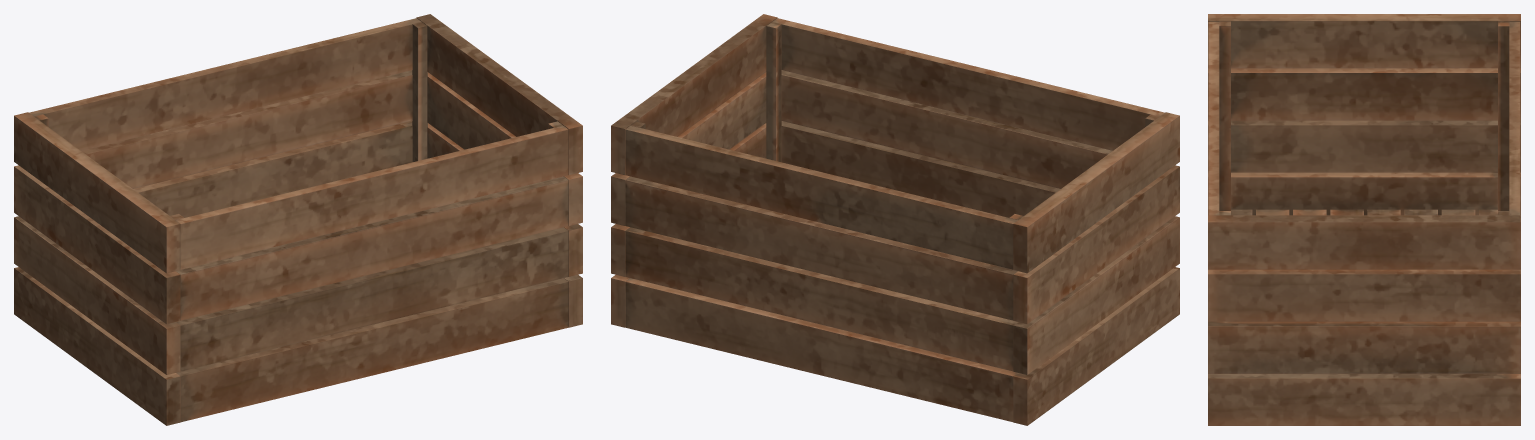
The model's file is Crate_01.fbx.
The picture shows the model from 3 angles, left to right: view 1: azimuth 30°, elevation 25°; view 2: azimuth 150°, elevation 25°; view 3: azimuth 270°, elevation 25°; orthographic projection. The views are drawn at different scales.
Parts seen in each view (by area): view 1: Crate_01; view 2: Crate_01; view 3: Crate_01.
Boxes of the visible parts, x1=… form: Crate_01: x1=14, y1=14, x2=582, y2=425; Crate_01: x1=611, y1=14, x2=1179, y2=425; Crate_01: x1=1208, y1=14, x2=1520, y2=425.
Bounding box in the file's own units: 58.93 × 26.98 × 37.39.
Materials: 1 (1 with a texture image).
